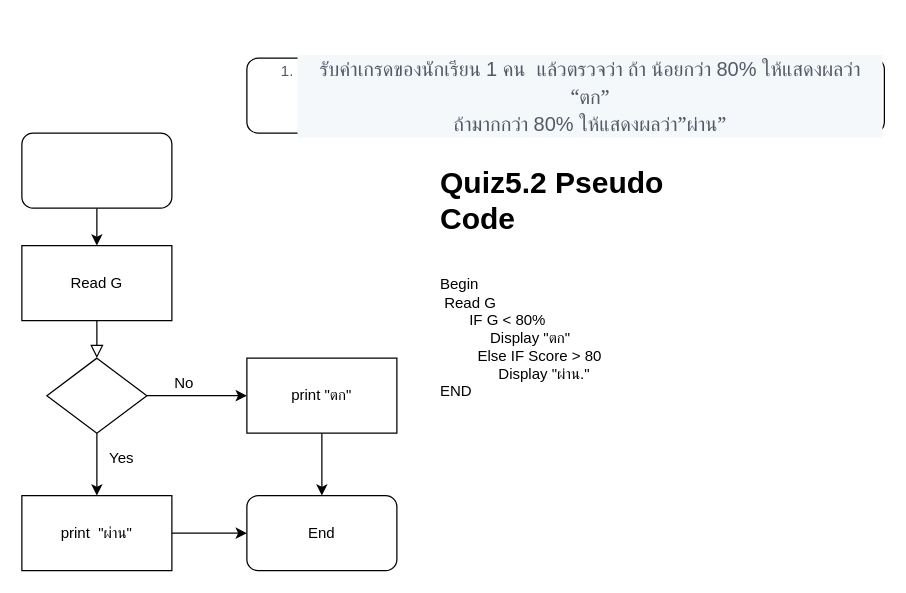
Image size: 906x593. Some labels were removed from this diagram. Here are the shapes that lost their labels. From the top down, the centre of each, then its label:
At (x=96, y=170): "Start".
At (x=96, y=395): "G > 80%".
